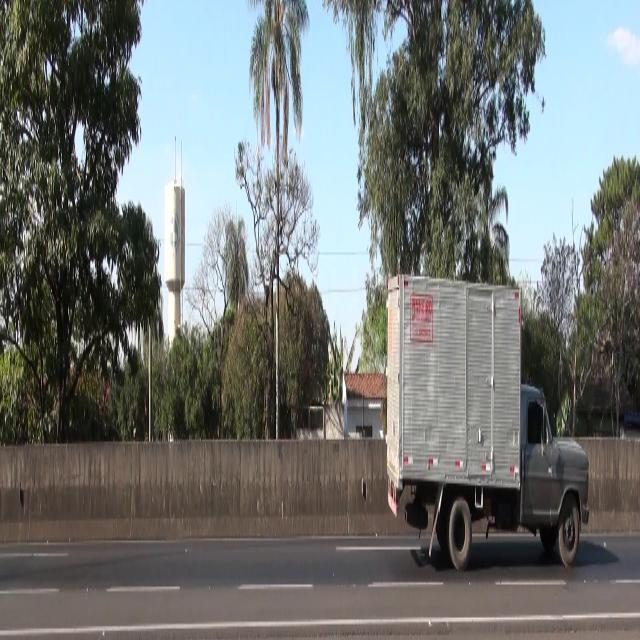-axle: (556, 493, 583, 578), (447, 495, 473, 573)
